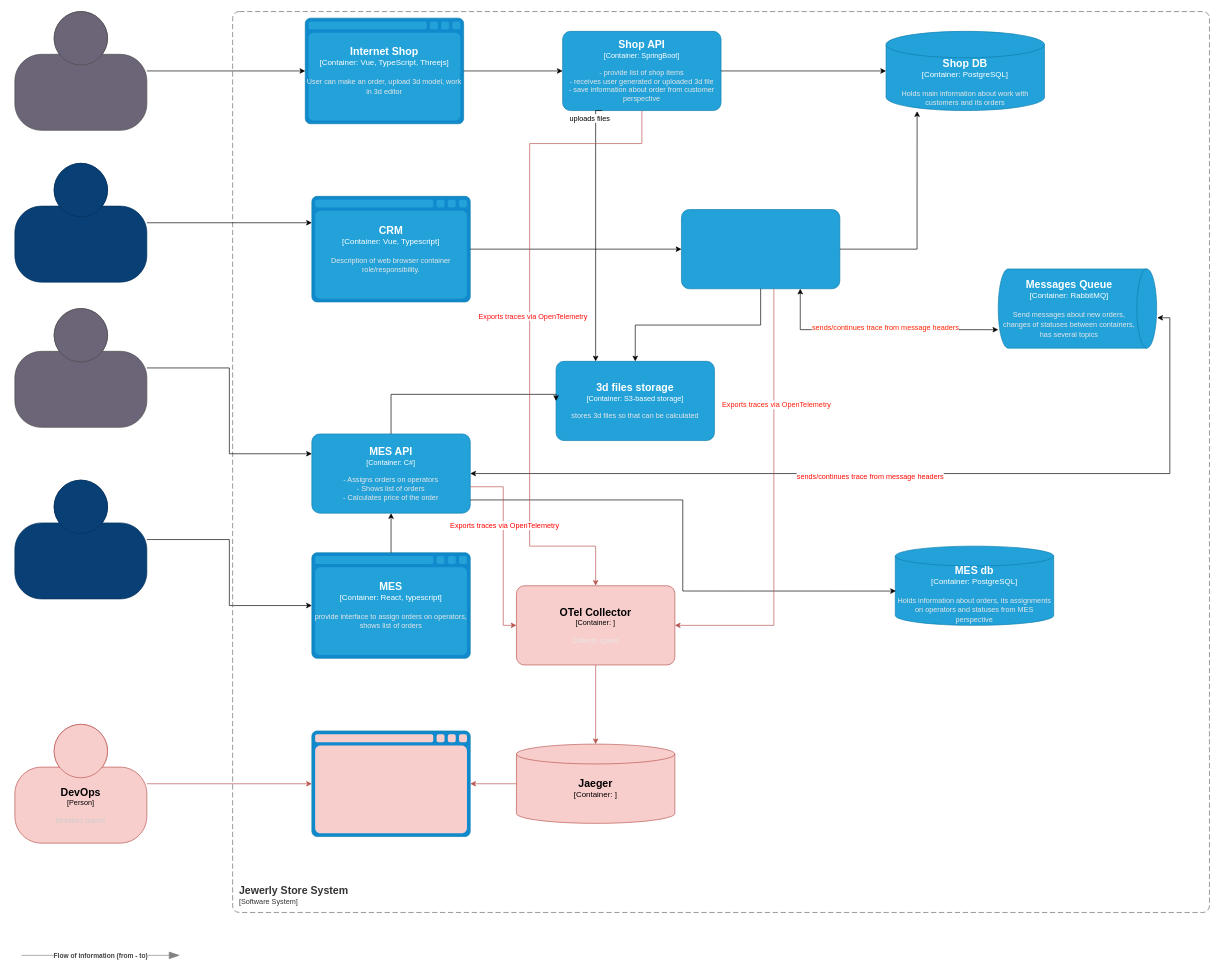
Some shapes in this 1221 by 977 pixel diagram are drawn without their labels. Each missing label, with the centre of its shape:
"API user [Person] Description of external person." goes at (x=80, y=367).
"CRM API [Container: SpringBoot] Description of container role/responsibility." goes at (x=760, y=249).
"Customer [Person] Description of external person." goes at (x=80, y=70).
"Jaeger UI [Container: ] Visualizes traces" goes at (x=390, y=783).
"Operator [Person] Takes order in work, manufactures jewerly" goes at (x=80, y=539).
"Seller [Person] Operates with order, confirms manufacturing for the user" goes at (x=80, y=222).
